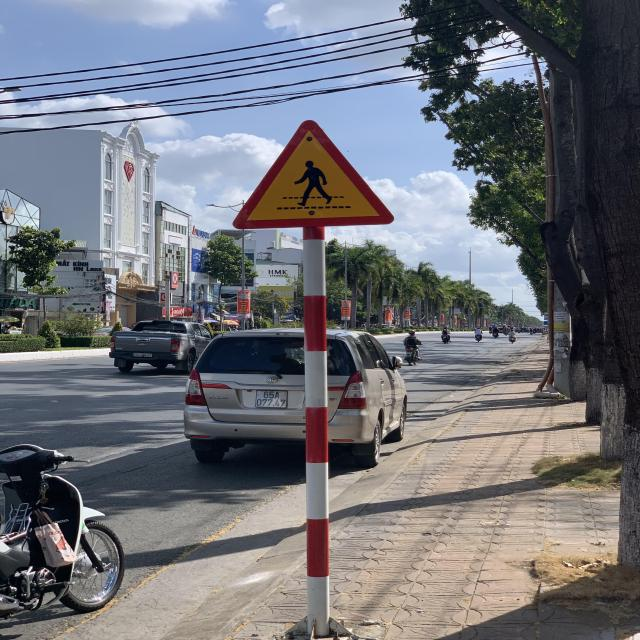Duong_Nguoi_Di_Bo_Sang_Ngang: (233, 119, 394, 230)
